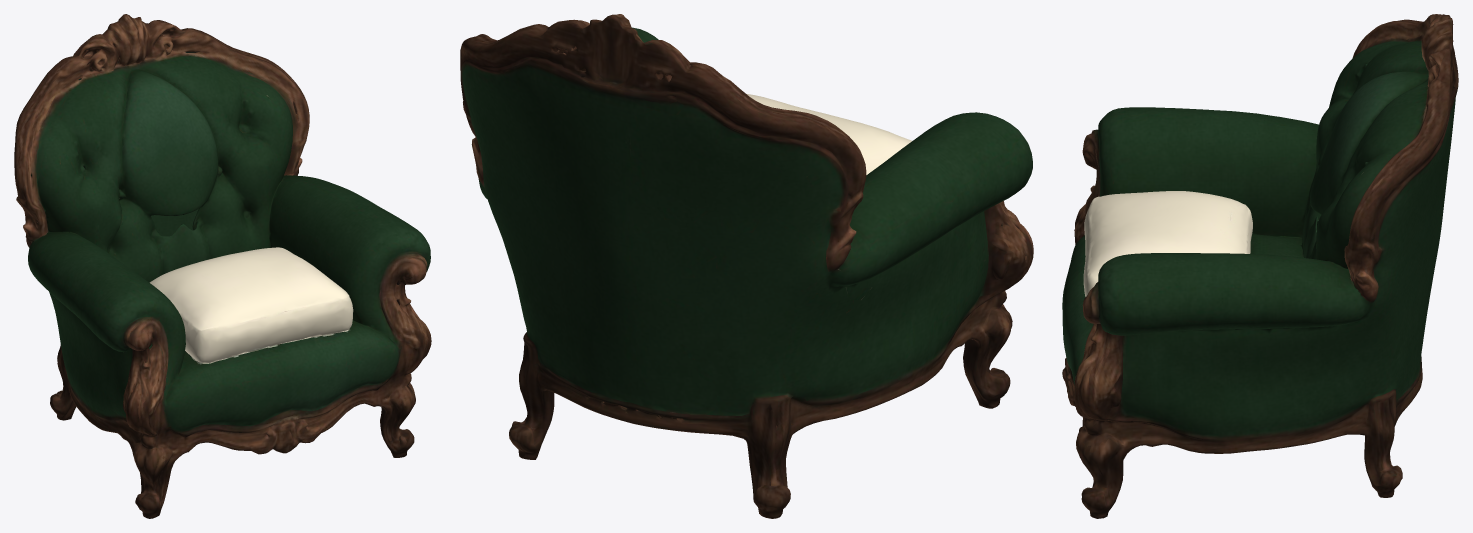
The model's file is generation_armchair_2.glb.
The picture shows the model from 3 angles, left to right: view 1: azimuth 30°, elevation 25°; view 2: azimuth 150°, elevation 25°; view 3: azimuth 270°, elevation 25°; orthographic projection. The views are drawn at different scales.
Parts seen in each view (by area): view 1: geometry_0; view 2: geometry_0; view 3: geometry_0.
Part boxes in pixels (x1=…): geometry_0: x1=14, y1=14, x2=431, y2=518; geometry_0: x1=460, y1=14, x2=1033, y2=518; geometry_0: x1=1062, y1=14, x2=1458, y2=518.
Size of the model in its own units: 0.9492 by 1 by 0.8444.
Materials: 1 (1 with a texture image).
